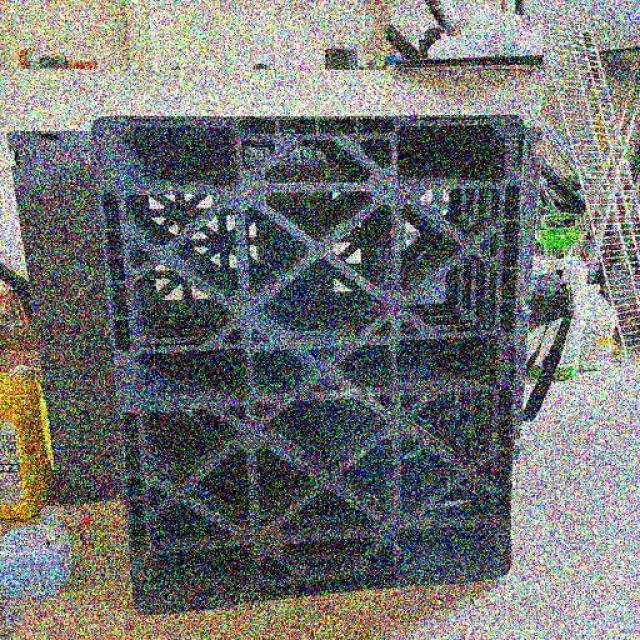non-igps: (81, 88, 537, 623)
